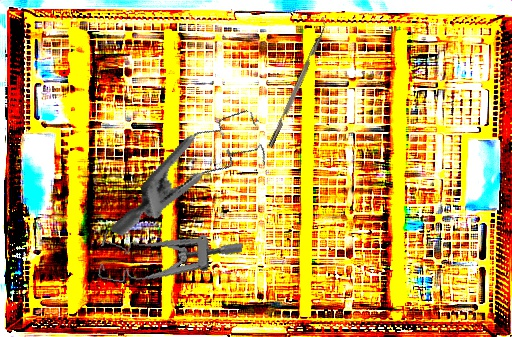Chopper: (262, 17, 331, 148)
Speculum: (109, 79, 282, 276), (95, 217, 244, 303)
